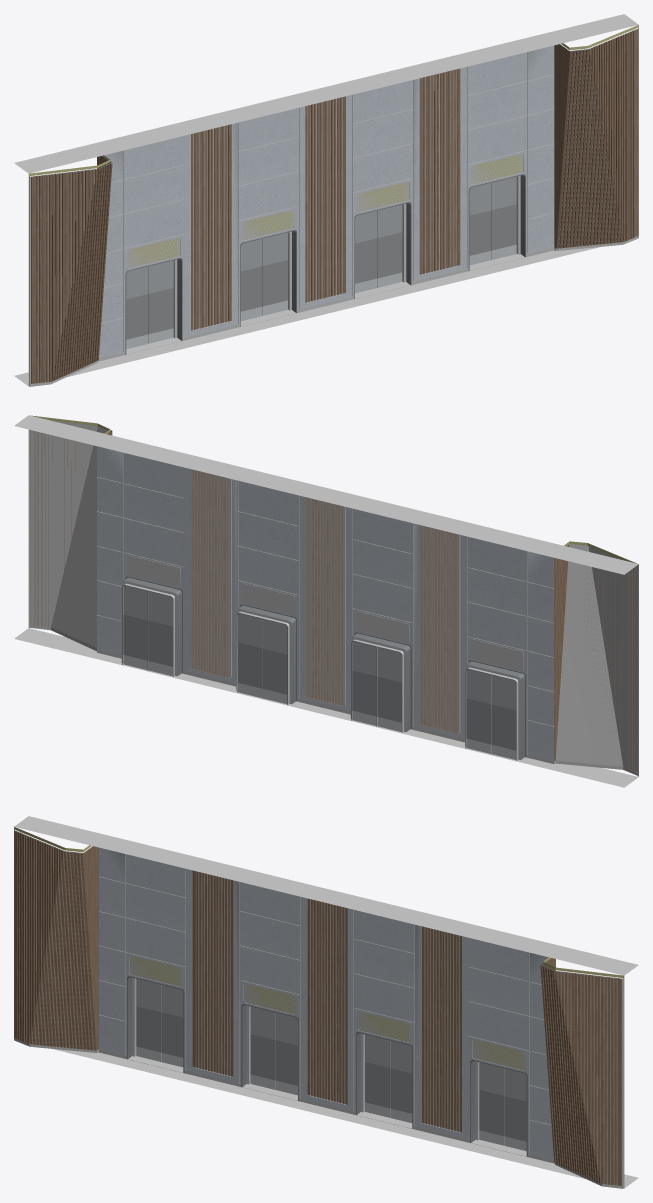
3 renders of one model, top to bottom at view 1: azimuth 30°, elevation 25°; view 2: azimuth 150°, elevation 25°; view 3: azimuth 330°, elevation 25°, orthographic.
Visible parts, largest first — view 1: M_W_EV_001_b_24x8; view 2: M_W_EV_001_b_24x8; view 3: M_W_EV_001_b_24x8.
Boxes of the visible parts, bbox=[...] form: M_W_EV_001_b_24x8: bbox=[14, 14, 638, 386]; M_W_EV_001_b_24x8: bbox=[14, 415, 638, 787]; M_W_EV_001_b_24x8: bbox=[14, 816, 638, 1188].
Bounding box in the file's own units: 24 × 8 × 1.7.
